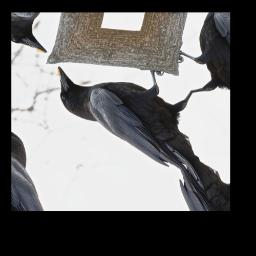Crow: (40, 19, 230, 196)
